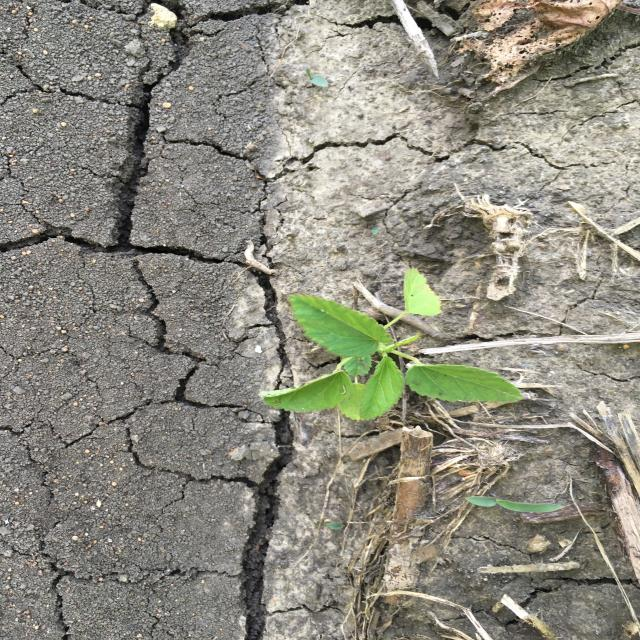PricklySida: (257, 265, 528, 423)
